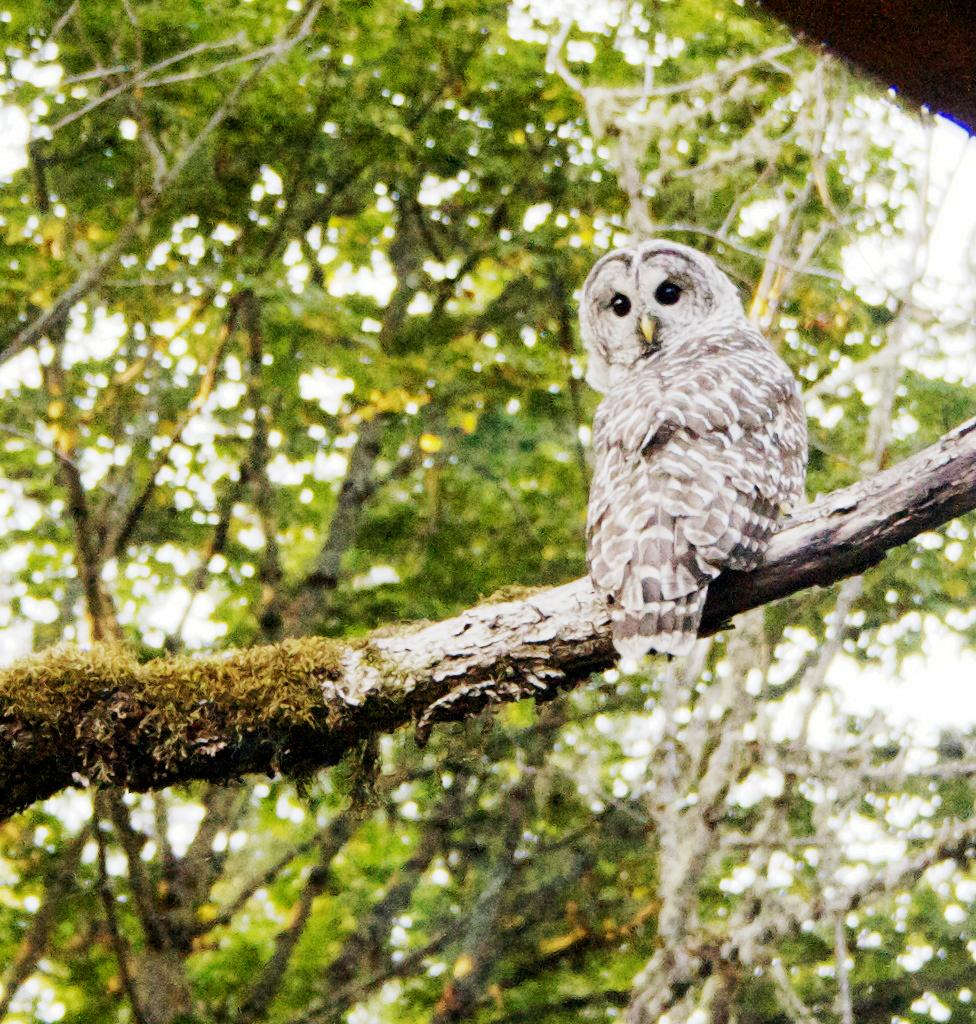Owl: (577, 242, 810, 659)
